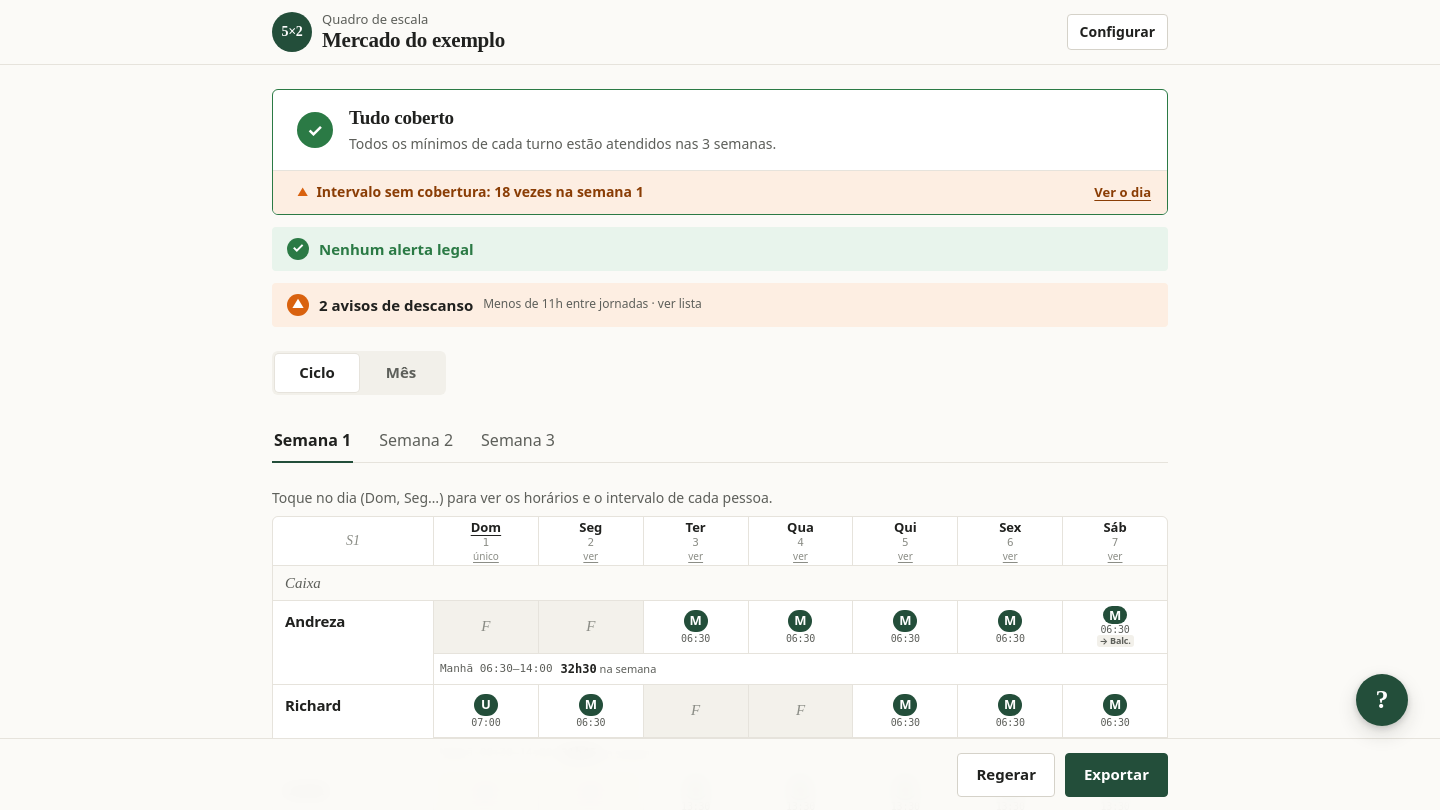
Test: App › com escala salva, abre direto na tabela; "Exportar" abre o painel de exportação
This screenshot has width=1440, height=810.
Expected: the text "Caixa" is shown, [285, 575, 321, 591]
Click the button "Exportar".
click(1116, 774)  # box [1065, 752, 1168, 796]
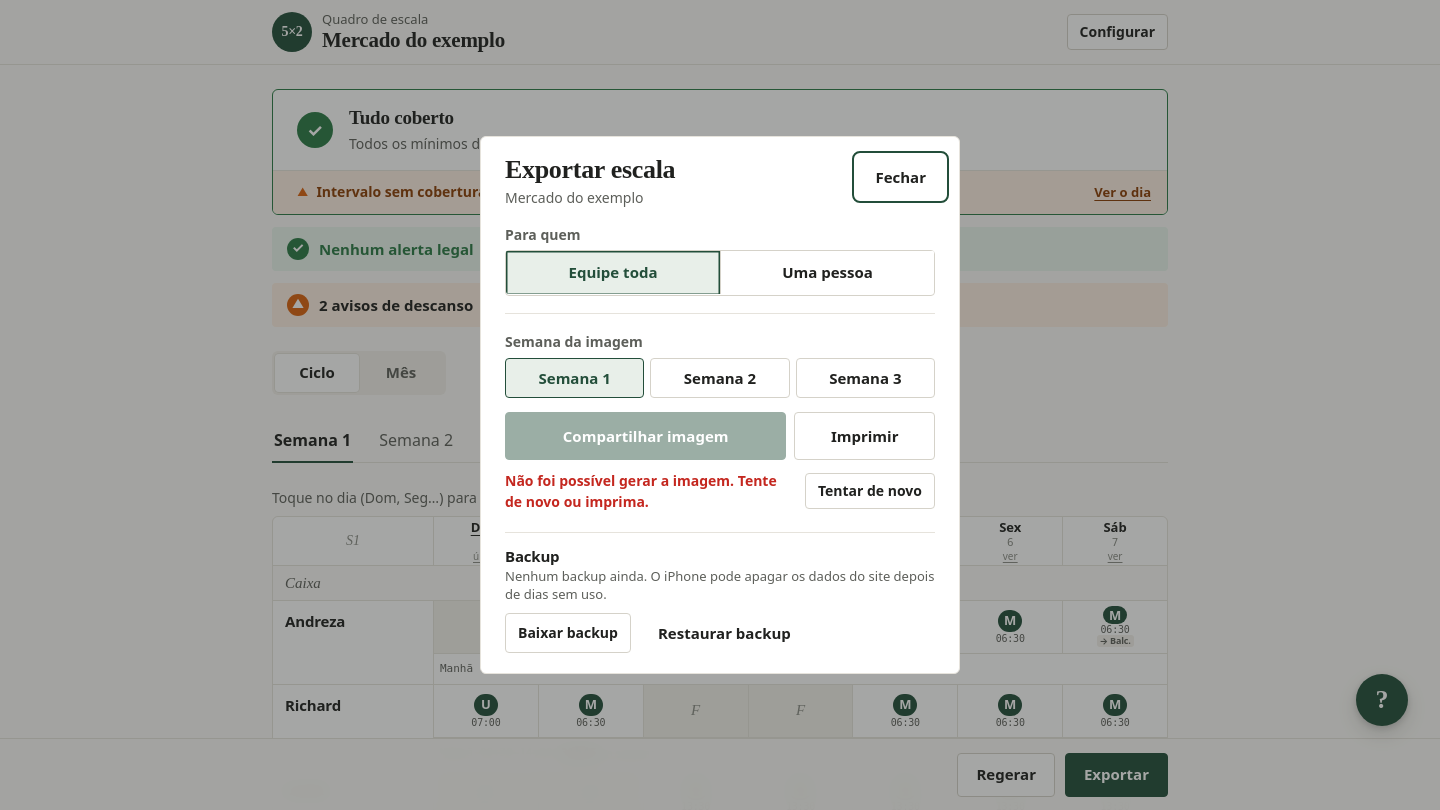
Now the heading "Exportar escala" is shown, box [505, 155, 675, 185]
